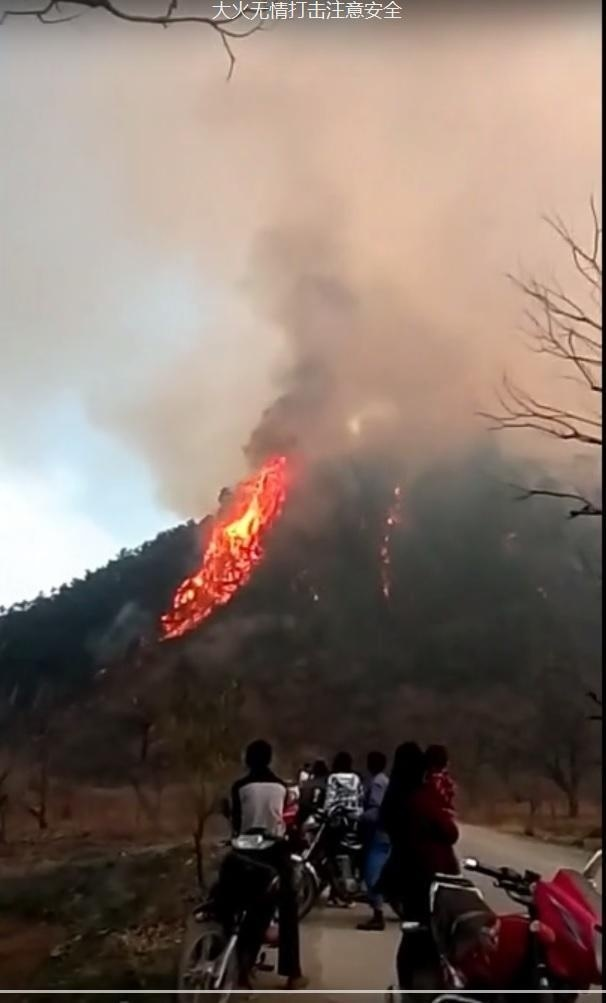fire: (156, 453, 291, 632)
